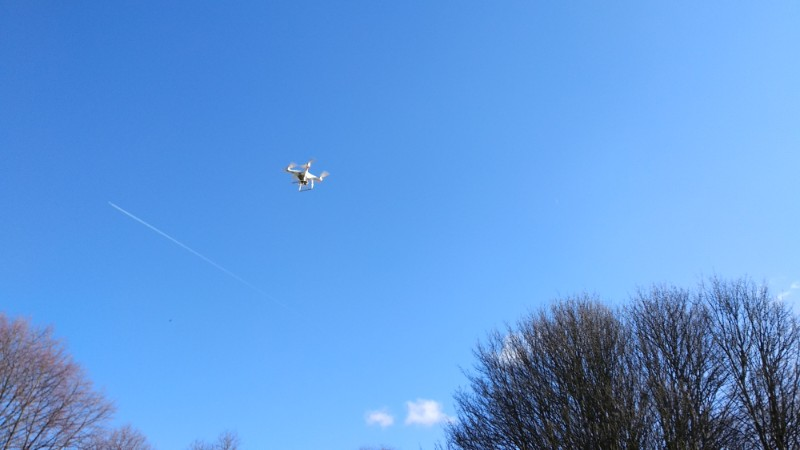drone: (281, 158, 331, 192)
